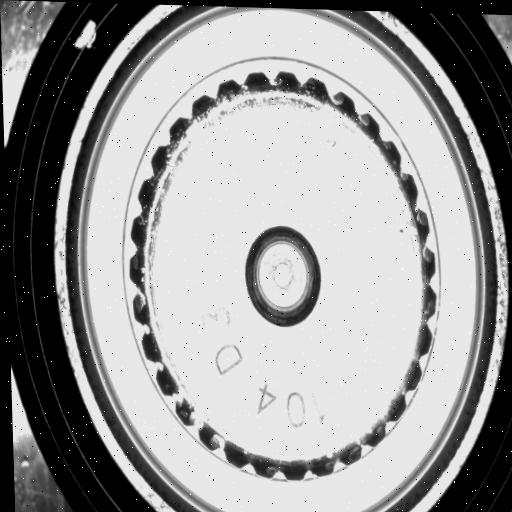gear: (117, 62, 448, 488)
